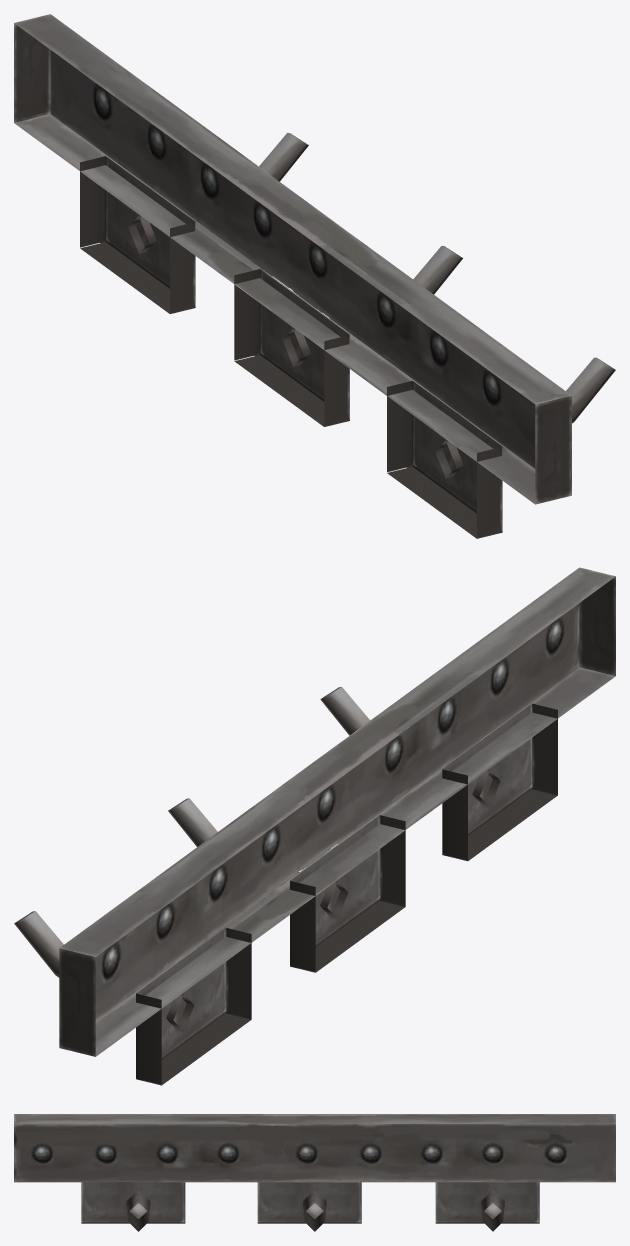
File: Time limit_Other_01.FBX
The picture shows the model from 3 angles, top to bottom: view 1: azimuth 30°, elevation 25°; view 2: azimuth 150°, elevation 25°; view 3: azimuth 270°, elevation 25°; orthographic projection. The views are drawn at different scales.
Parts seen in each view (by area): view 1: Time limit_Other_01; view 2: Time limit_Other_01; view 3: Time limit_Other_01.
Boxes of the visible parts, bbox=[...] form: Time limit_Other_01: bbox=[14, 14, 615, 538]; Time limit_Other_01: bbox=[14, 567, 615, 1085]; Time limit_Other_01: bbox=[14, 1114, 615, 1231].
Bounding box in the file's own units: 1.11 × 0.9968 × 5.32.
